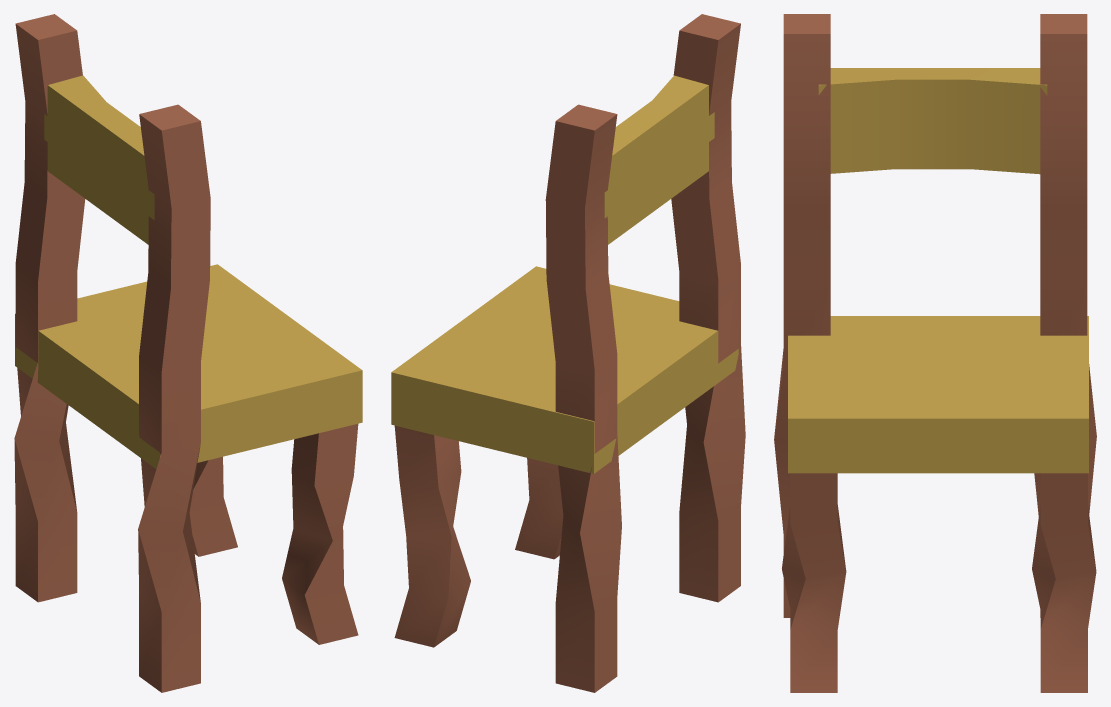
File: silla.fbx
The picture shows the model from 3 angles, left to right: view 1: azimuth 30°, elevation 25°; view 2: azimuth 150°, elevation 25°; view 3: azimuth 270°, elevation 25°; orthographic projection. The views are drawn at different scales.
Visible parts, largest first — view 1: pCube7, pCube4, pCube10, pCube9, pCube3, pCube5; view 2: pCube4, pCube10, pCube7, pCube5, pCube3, pCube9; view 3: pCube4, pCube3, pCube7, pCube10, pCube5, pCube9.
Part boxes in pixels (left/top/right/bottom): pCube7: left=138, top=104, right=210, bottom=692; pCube4: left=15, top=264, right=362, bottom=468; pCube10: left=14, top=14, right=85, bottom=602; pCube9: left=282, top=424, right=358, bottom=644; pCube3: left=44, top=75, right=154, bottom=244; pCube5: left=189, top=456, right=237, bottom=556; pCube4: left=391, top=266, right=738, bottom=473; pCube10: left=545, top=104, right=621, bottom=692; pCube7: left=671, top=14, right=745, bottom=602; pCube5: left=394, top=425, right=470, bottom=647; pCube3: left=604, top=75, right=714, bottom=244; pCube9: left=515, top=458, right=563, bottom=559; pCube4: left=788, top=316, right=1088, bottom=473; pCube3: left=818, top=68, right=1047, bottom=174; pCube7: left=774, top=14, right=830, bottom=617; pCube10: left=1034, top=14, right=1096, bottom=617; pCube5: left=1032, top=473, right=1096, bottom=692; pCube9: left=782, top=473, right=846, bottom=692.
Bounding box in the file's own units: 2.06 × 5.11 × 2.56.
